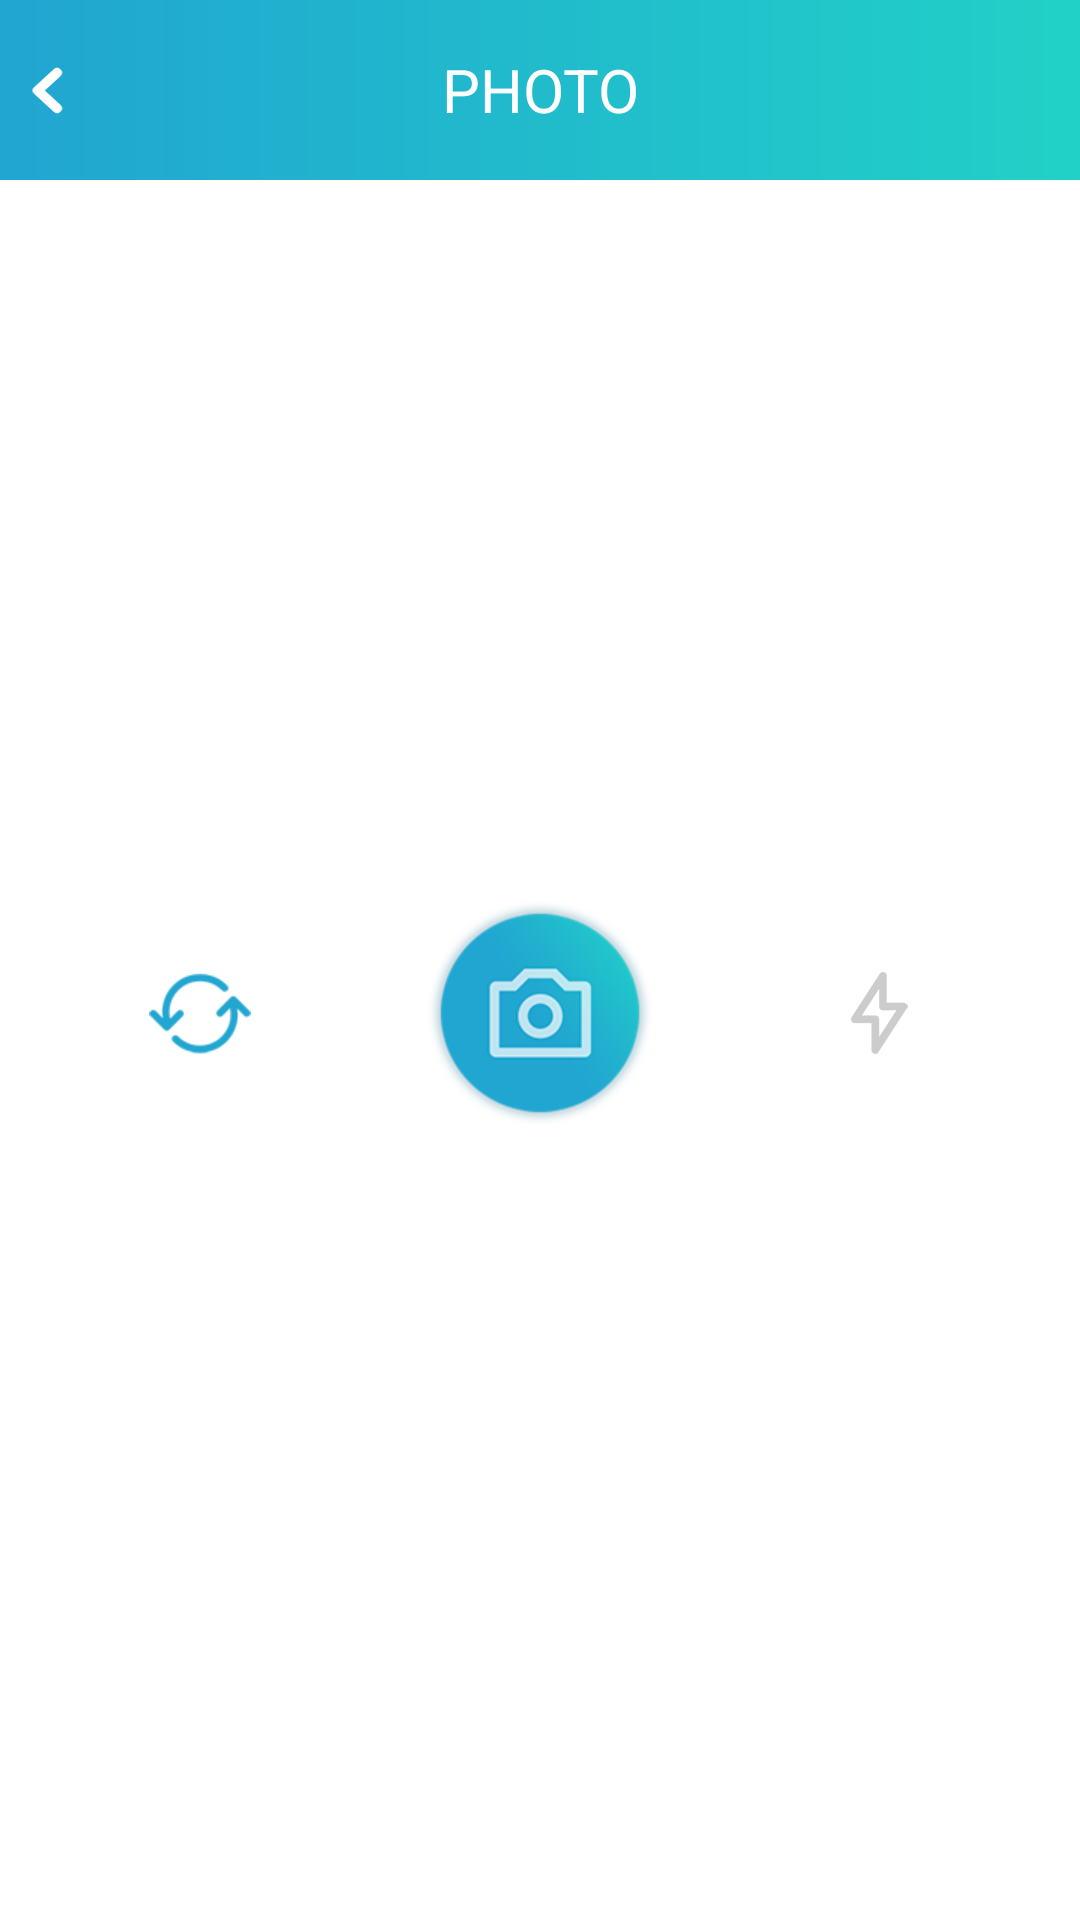

Point at icon controls on the screen. Image size 1080 x 1920, points as (x,y).
left arrow: (47,90)
showroom capture photo: (540,1013)
